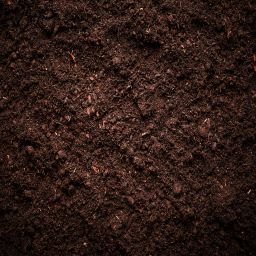dirt: (1, 2, 249, 251)
